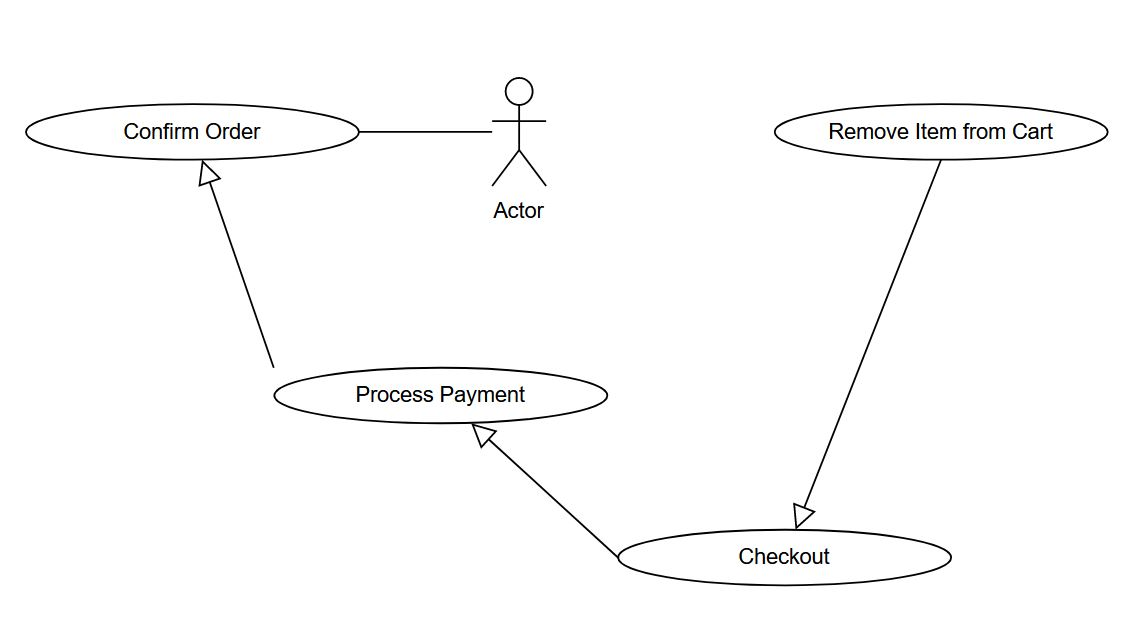actor: (488, 74, 550, 191)
association: (357, 121, 491, 148)
generalization: (793, 159, 940, 528), (471, 422, 618, 557), (196, 161, 275, 366)
text: (827, 115, 1057, 144), (347, 381, 529, 409), (122, 117, 266, 147), (736, 540, 830, 569), (491, 197, 545, 222)
use_case: (272, 365, 609, 427), (616, 527, 952, 588), (24, 102, 360, 162), (771, 102, 1107, 162)
